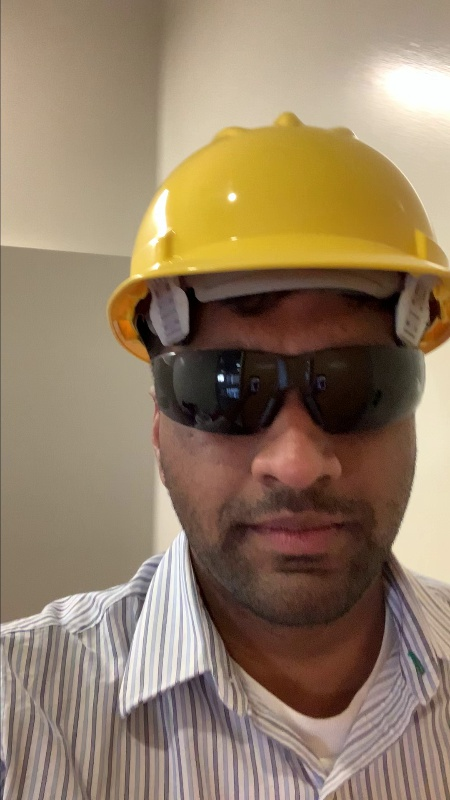glasses: (142, 339, 442, 434)
helmet: (84, 110, 450, 341)
